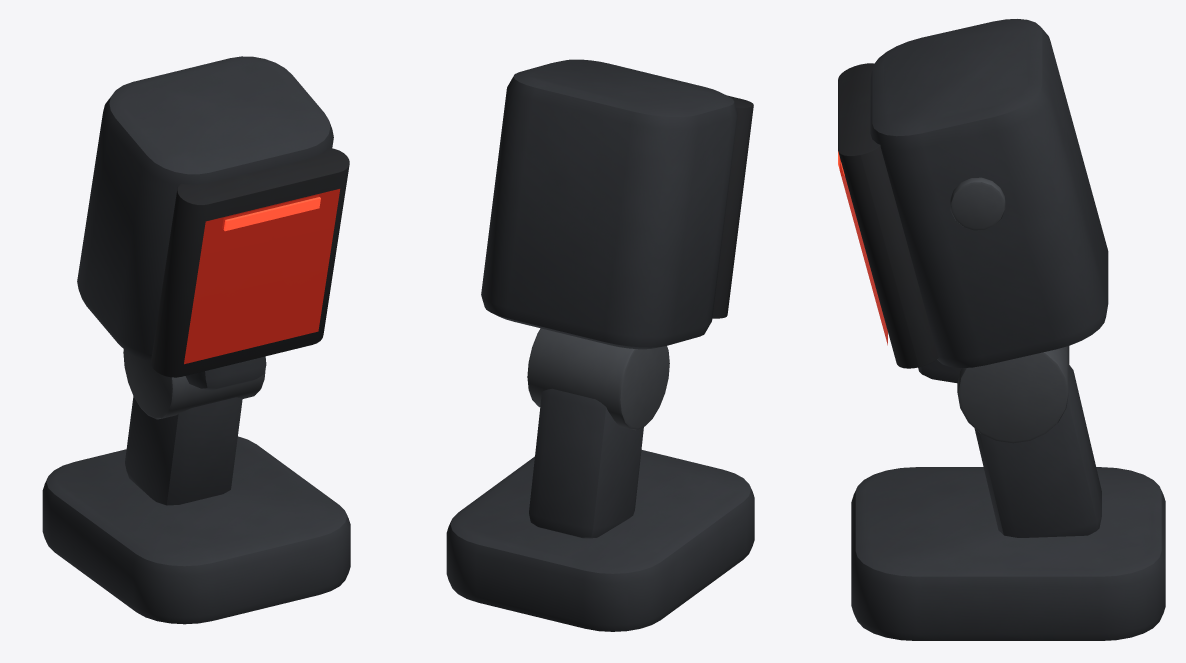
File: barcode_scanner.glb
3 renders of one model, left to right at view 1: azimuth 30°, elevation 25°; view 2: azimuth 150°, elevation 25°; view 3: azimuth 270°, elevation 25°, orthographic. The views are drawn at different scales.
Visible parts, largest first — view 1: Scanner_Base, s_headshell, Scanner_Window, s_headfront, s_lower, s_knuckle, s_upper, Scanner_LED; view 2: s_headshell, Scanner_Base, s_lower, s_knuckle, s_headfront; view 3: s_headshell, Scanner_Base, s_headfront, s_lower, s_knuckle, s_sidebtn, Scanner_Window, s_upper.
Part boxes in pixels (<box>): Scanner_Base: <box>42,436,350,624</box>; s_headshell: <box>77,56,333,360</box>; Scanner_Window: <box>184,189,340,364</box>; s_headfront: <box>151,148,349,377</box>; s_lower: <box>125,396,242,505</box>; s_knuckle: <box>123,349,265,419</box>; s_upper: <box>185,356,266,390</box>; Scanner_LED: <box>223,197,320,231</box>; s_headshell: <box>481,59,737,349</box>; Scanner_Base: <box>446,449,754,631</box>; s_lower: <box>529,388,643,538</box>; s_knuckle: <box>527,328,669,430</box>; s_headfront: <box>712,95,753,318</box>; s_headshell: <box>870,19,1108,368</box>; Scanner_Base: <box>851,467,1165,640</box>; s_headfront: <box>838,63,938,368</box>; s_lower: <box>974,365,1101,537</box>; s_knuckle: <box>957,346,1069,443</box>; s_sidebtn: <box>950,177,1005,230</box>; Scanner_Window: <box>839,157,887,345</box>; s_upper: <box>918,359,961,383</box>.
Size of the model in its own units: 0.12 by 0.2529 by 0.15.
Materials: 6 (3 with a texture image).
